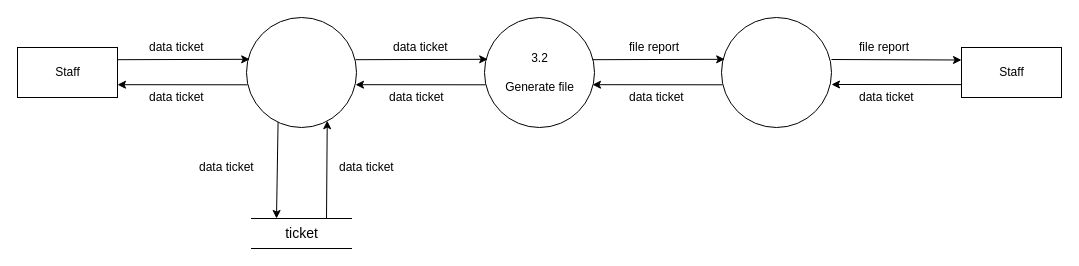
The diagram is 1079 pixels wide and 266 high, and some of its shapes have lost their labels. Here are the shapes that lost their labels. From the top down, the centre of each, then its label:
the point at 301,72: 3.1 Get data ticket
the point at 776,72: 3.3 Show Report
